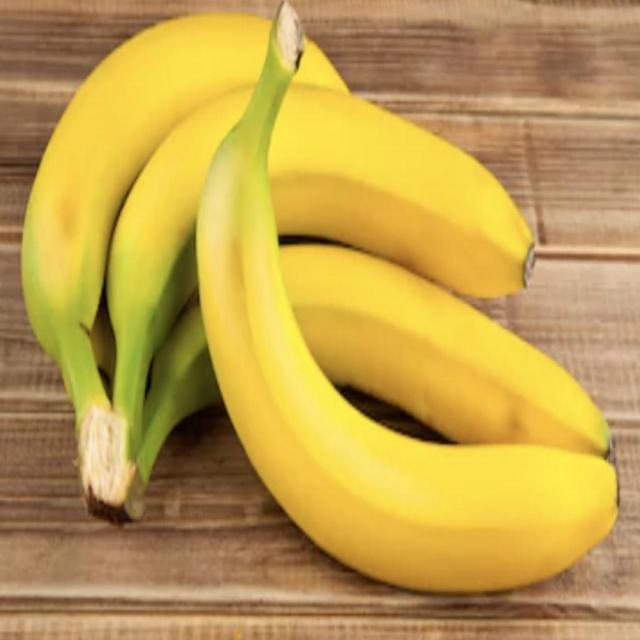banana: (181, 0, 639, 637)
